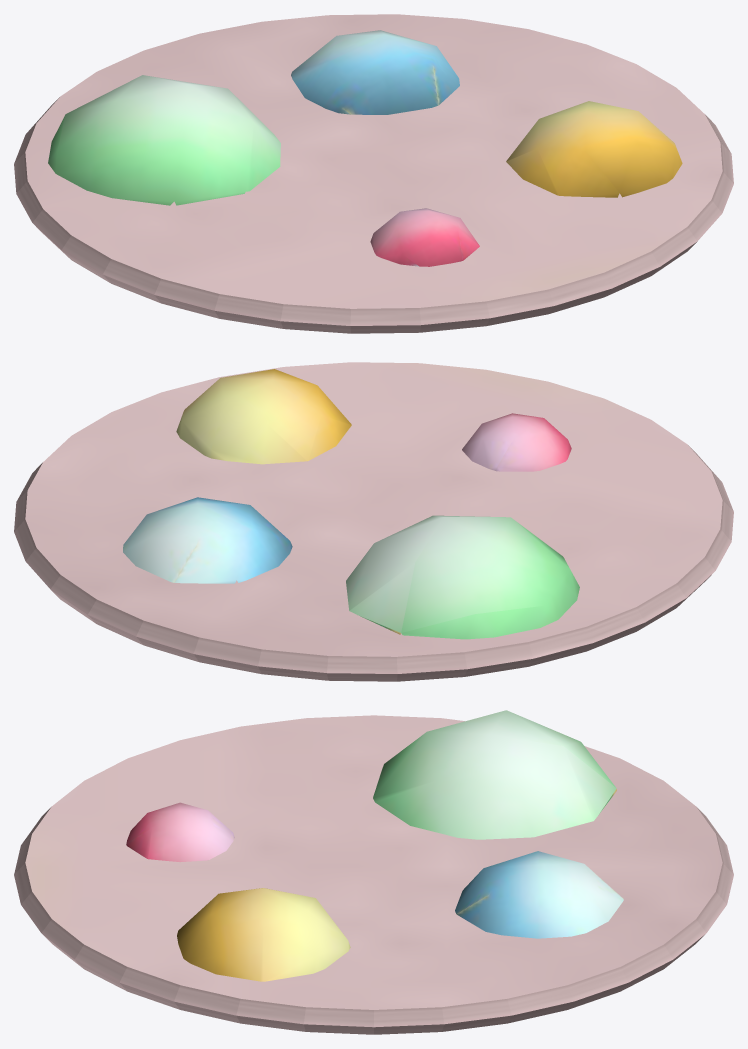
The model's file is 45e8c76c-1df5-43c7-b281-5f38d8546bba.glb.
3 renders of one model, top to bottom at view 1: azimuth 30°, elevation 25°; view 2: azimuth 150°, elevation 25°; view 3: azimuth 270°, elevation 25°, orthographic.
Visible parts, largest first — view 1: candyPath; view 2: candyPath; view 3: candyPath.
Boxes of the visible parts, x1=… form: candyPath: x1=14, y1=14, x2=733, y2=333; candyPath: x1=14, y1=362, x2=733, y2=681; candyPath: x1=14, y1=710, x2=733, y2=1034.
Size of what is drawn, in the model's own units: 2.07 by 0.287 by 2.07.
Materials: 1 (1 with a texture image).
